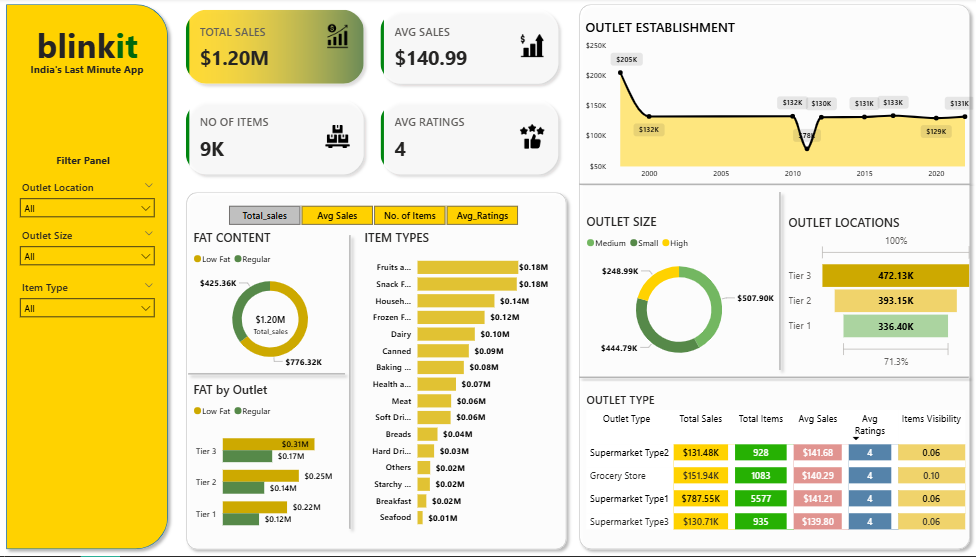

The dashboard page shown, as its layout file describes it:
{"tool":"powerbi","page":{"name":"Page 1","canvas":[1400,800],"ordinal":0},"visuals":[{"type":"shape","box":[0,0,249.9,799.2],"z":0},{"type":"textbox","box":[38.3,28.3,173.3,75],"z":1000},{"type":"textbox","box":[31.7,86.7,186.7,33.3],"z":2000},{"type":"cardVisual","fields":{"Data":["BlinkIT Grocery Data.Total_sales","BlinkIT Grocery Data.Avg Sales","BlinkIT Grocery Data.No. of Items","BlinkIT Grocery Data.Avg_Ratings"]},"box":[249.9,0,569.6,270.1],"z":3000},{"type":"shape","box":[257.4,269.5,563,529.9],"z":4000},{"type":"donutChart","title":"FAT CONTENT","fields":{"Y":["BlinkIT Grocery Data.Total_sales"],"Category":["BlinkIT Grocery Data.Item Fat Content"]},"box":[273.1,330.9,229.7,207.2],"z":5000},{"type":"slicer","fields":{"Values":["Metrics.Metrics"]},"box":[302,290.8,464.3,40.2],"z":6000},{"type":"cardVisual","fields":{"Data":["BlinkIT Grocery Data.Total_sales"]},"box":[324.5,430.5,128.5,75.5],"z":7000},{"type":"clusteredBarChart","title":"FAT by Outlet ","fields":{"Y":["BlinkIT Grocery Data.Total_sales"],"Category":["BlinkIT Grocery Data.Outlet Location Type"],"Series":["BlinkIT Grocery Data.Item Fat Content"]},"box":[272.5,549.5,228.8,231.8],"z":8000},{"type":"shape","box":[260.2,526.9,242.6,22.5],"z":9000},{"type":"shape","box":[483.5,330.9,36.9,438.6],"z":10000},{"type":"barChart","title":"ITEM TYPES","fields":{"Y":["BlinkIT Grocery Data.Total_sales"],"Category":["BlinkIT Grocery Data.Item Type"]},"box":[517.8,331.2,274,438.1],"z":11000},{"type":"shape","box":[821.9,0,578.1,799.4],"z":12000},{"type":"lineChart","title":" OUTLET ESTABLISHMENT ","fields":{"Category":["BlinkIT Grocery Data.Outlet Establishment Year"],"Y":["BlinkIT Grocery Data.Total_sales"]},"box":[834,28.6,566,240.9],"z":13000},{"type":"shape","box":[821.5,258.1,579.2,11.5],"z":14000},{"type":"donutChart","title":"OUTLET SIZE","fields":{"Y":["BlinkIT Grocery Data.Total_sales"],"Category":["BlinkIT Grocery Data.Outlet Size"]},"box":[835.5,308.6,275.5,225.8],"z":15000},{"type":"funnel","title":"OUTLET LOCATIONS","fields":{"Y":["Sum(BlinkIT Grocery Data.Total Sales)"],"Category":["BlinkIT Grocery Data.Outlet Location Type"]},"box":[1126,310.1,274,225.8],"z":16000},{"type":"pivotTable","title":"OUTLET TYPE","fields":{"Values":["BlinkIT Grocery Data.Total_sales","BlinkIT Grocery Data.No. of Items","BlinkIT Grocery Data.Avg Sales","BlinkIT Grocery Data.Avg_Ratings","Avg(BlinkIT Grocery Data.Item Visibility)"],"Rows":["BlinkIT Grocery Data.Outlet Type"]},"box":[835.7,564.3,564.3,205.7],"z":17000},{"type":"shape","box":[821.8,535.5,576.4,14.5],"z":17001},{"type":"shape","box":[1100,270,37.1,272.9],"z":17002},{"type":"slicer","fields":{"Values":["BlinkIT Grocery Data.Outlet Location Type"]},"box":[18.3,255.6,213.3,68.3],"z":17003},{"type":"slicer","fields":{"Values":["BlinkIT Grocery Data.Outlet Size"]},"box":[18.3,323.9,213.3,68.3],"z":17004},{"type":"slicer","fields":{"Values":["BlinkIT Grocery Data.Item Type"]},"box":[18.3,398.9,213.3,68.3],"z":17005},{"type":"textbox","box":[61.6,216.5,114.7,38.7],"z":17006}]}

Visuals, with their boxes in screenshot pixels (x1, y1, x2, y2), scaled from the page's 1400x800 canvas onto the 976x557 screenshot:
shape: (x1=0, y1=0, x2=174, y2=556)
textbox: (x1=27, y1=20, x2=148, y2=72)
textbox: (x1=22, y1=60, x2=152, y2=84)
cardVisual - BlinkIT Grocery Data.Total_sales x BlinkIT Grocery Data.Avg Sales: (x1=174, y1=0, x2=571, y2=188)
shape: (x1=179, y1=188, x2=572, y2=556)
"FAT CONTENT" donutChart: (x1=190, y1=230, x2=351, y2=375)
slicer - Metrics.Metrics: (x1=211, y1=202, x2=534, y2=230)
cardVisual - BlinkIT Grocery Data.Total_sales: (x1=226, y1=300, x2=316, y2=352)
"FAT by Outlet " clusteredBarChart: (x1=190, y1=383, x2=349, y2=544)
shape: (x1=181, y1=367, x2=351, y2=383)
shape: (x1=337, y1=230, x2=363, y2=536)
"ITEM TYPES" barChart: (x1=361, y1=231, x2=552, y2=536)
shape: (x1=573, y1=0, x2=975, y2=556)
" OUTLET ESTABLISHMENT " lineChart: (x1=581, y1=20, x2=975, y2=188)
shape: (x1=573, y1=180, x2=975, y2=188)
"OUTLET SIZE" donutChart: (x1=582, y1=215, x2=775, y2=372)
"OUTLET LOCATIONS" funnel: (x1=785, y1=216, x2=975, y2=373)
"OUTLET TYPE" pivotTable: (x1=583, y1=393, x2=975, y2=536)
shape: (x1=573, y1=373, x2=975, y2=383)
shape: (x1=767, y1=188, x2=793, y2=378)
slicer - BlinkIT Grocery Data.Outlet Location Type: (x1=13, y1=178, x2=161, y2=226)
slicer - BlinkIT Grocery Data.Outlet Size: (x1=13, y1=226, x2=161, y2=273)
slicer - BlinkIT Grocery Data.Item Type: (x1=13, y1=278, x2=161, y2=325)
textbox: (x1=43, y1=151, x2=123, y2=178)
